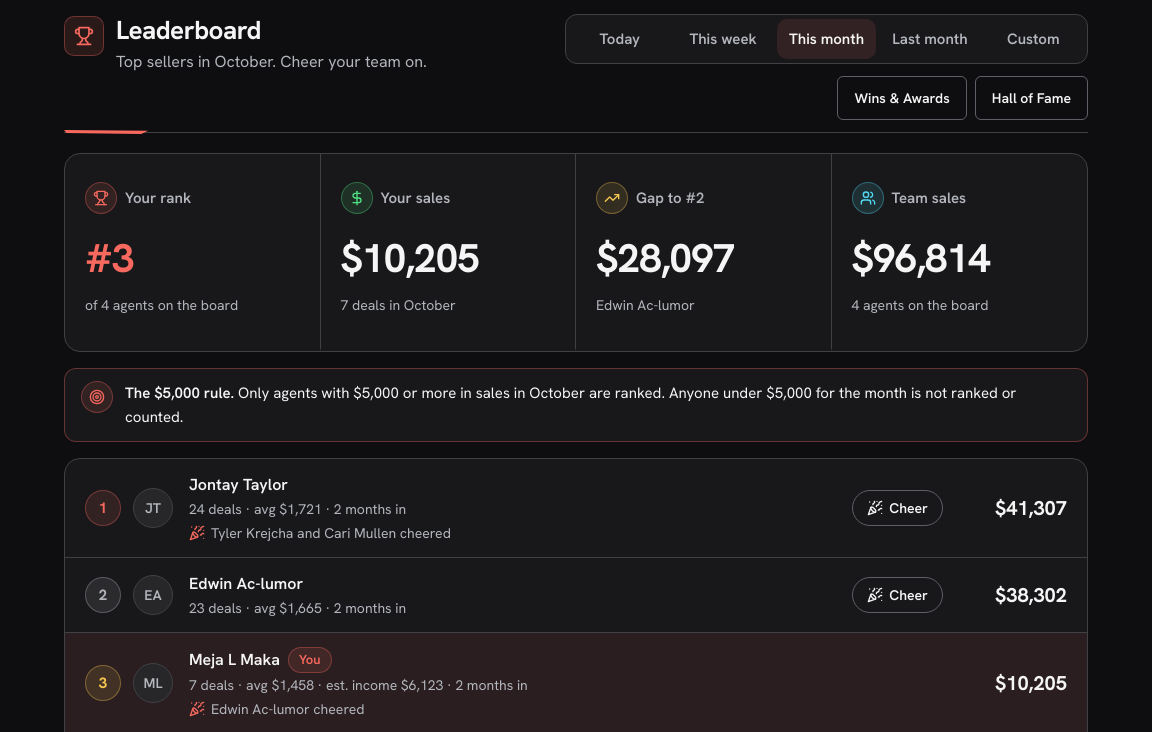
Leaderboard › asks the server for the window picked, and keeps it in the URL
Expected: the text "Jontay Taylor" is shown, [189,473,288,497]
Click the radio button labelled "Today" at (620,39), box [570,19,669,59]
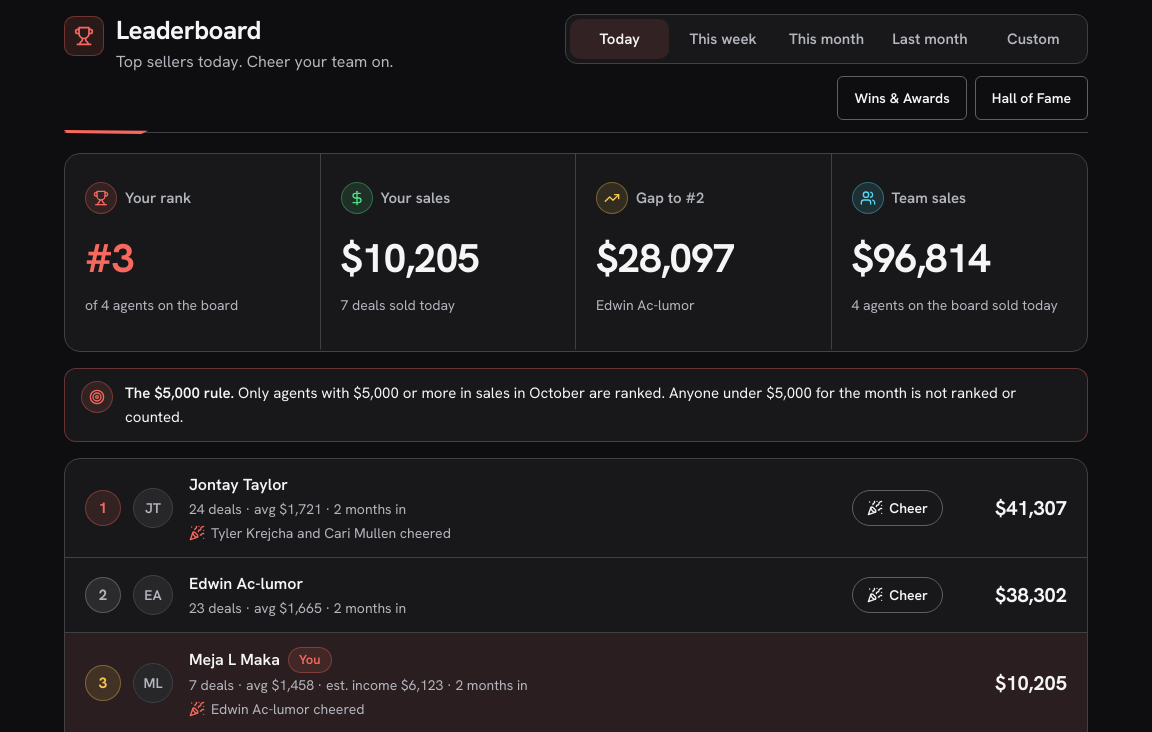
Expected: the radio button labelled "Today" is checked, [570,19,669,59]
